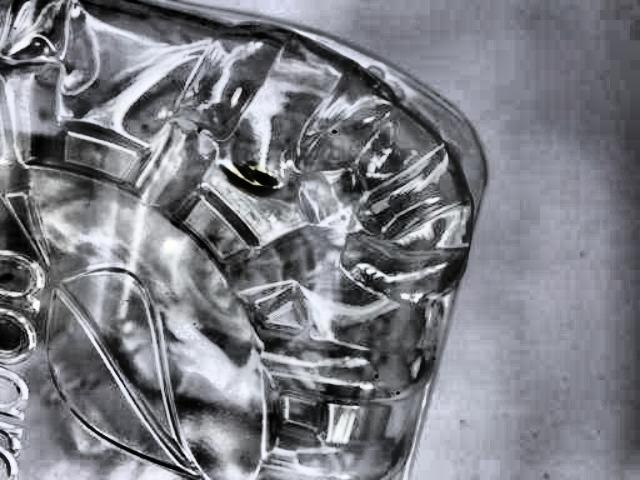Plastic: (0, 7, 500, 475)
